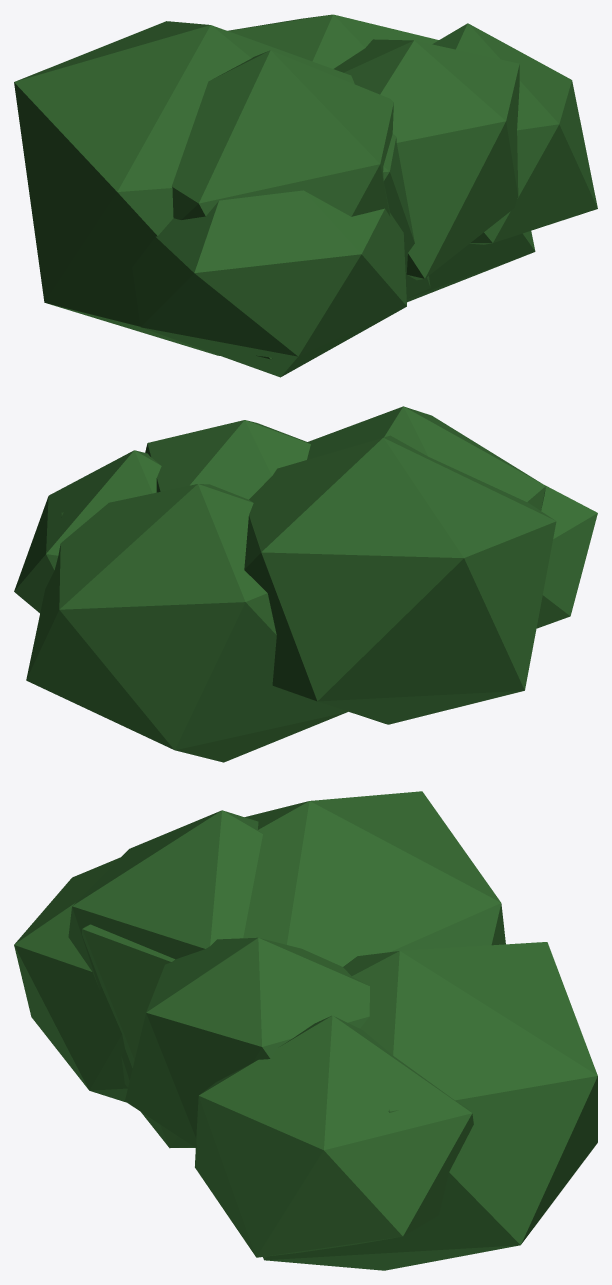
Rendered from bush.glb.
3 renders of one model, top to bottom at view 1: azimuth 30°, elevation 25°; view 2: azimuth 150°, elevation 25°; view 3: azimuth 270°, elevation 25°, orthographic. The views are drawn at different scales.
Visible parts, largest first — view 1: mata_atlantica_bush_adulta_folhagem_LOD0; view 2: mata_atlantica_bush_adulta_folhagem_LOD0; view 3: mata_atlantica_bush_adulta_folhagem_LOD0.
Part boxes in pixels (x1=…): mata_atlantica_bush_adulta_folhagem_LOD0: x1=14, y1=14, x2=597, y2=377; mata_atlantica_bush_adulta_folhagem_LOD0: x1=14, y1=406, x2=597, y2=762; mata_atlantica_bush_adulta_folhagem_LOD0: x1=14, y1=791, x2=597, y2=1270.
Size of what is drawn, in the model's own units: 1.35 by 0.9037 by 1.21.
